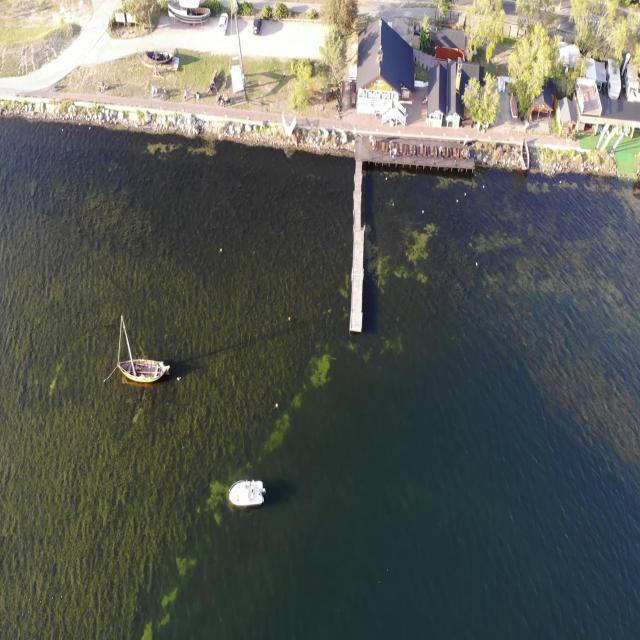boat: (226, 472, 268, 514)
bouy: (219, 246, 223, 254), (287, 314, 291, 322), (276, 402, 278, 408)
sailboat: (114, 321, 170, 398)
